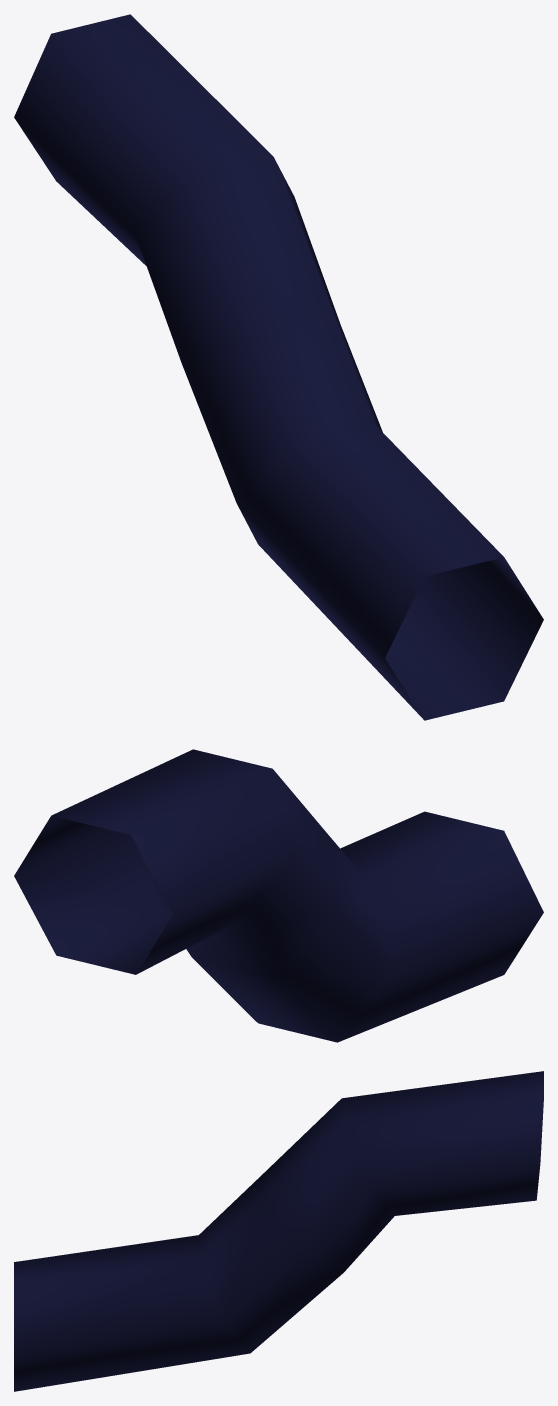
Rendered from Cable_center.fbx.
3 views of the same model, one above another, from view 1: azimuth 30°, elevation 25°; view 2: azimuth 150°, elevation 25°; view 3: azimuth 270°, elevation 25° (orthographic). The views are drawn at different scales.
Parts seen in each view (by area): view 1: Cable_Center; view 2: Cable_Center; view 3: Cable_Center.
Boxes of the visible parts, box(x1,y1,x2,y2) form: Cable_Center: box(14, 14, 543, 720); Cable_Center: box(14, 749, 543, 1042); Cable_Center: box(14, 1071, 543, 1391).
Size of the model in its own units: 0.1304 by 0.3231 by 0.5291.
